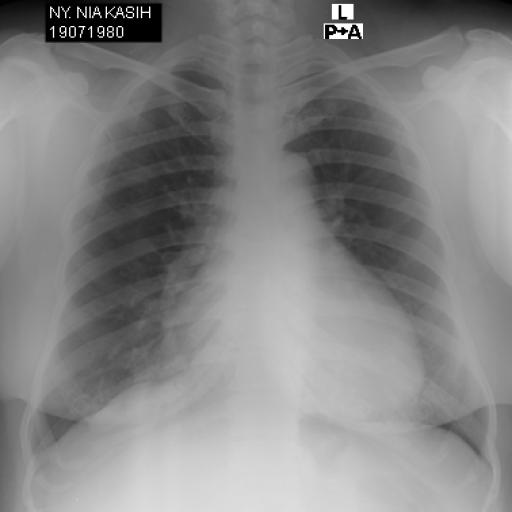kardiomegali: (23, 32, 499, 474)
